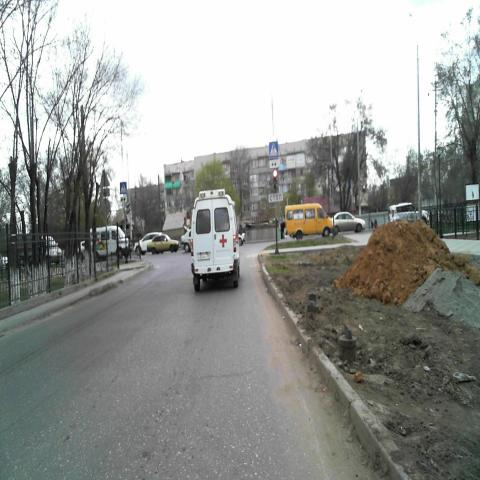6_16: (269, 192, 282, 202)
